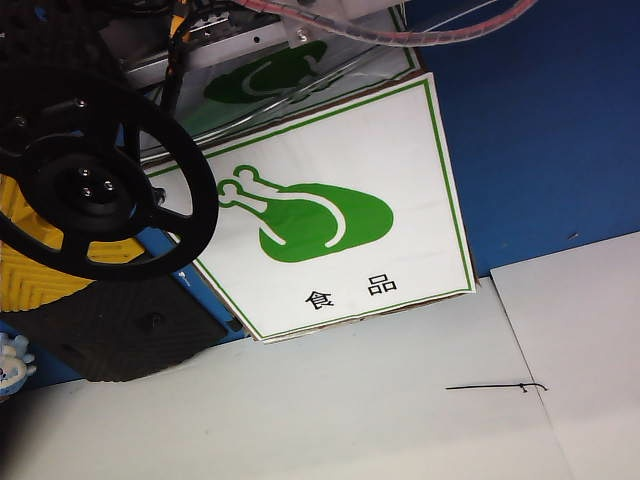Cube_food: (215, 162, 417, 314)
